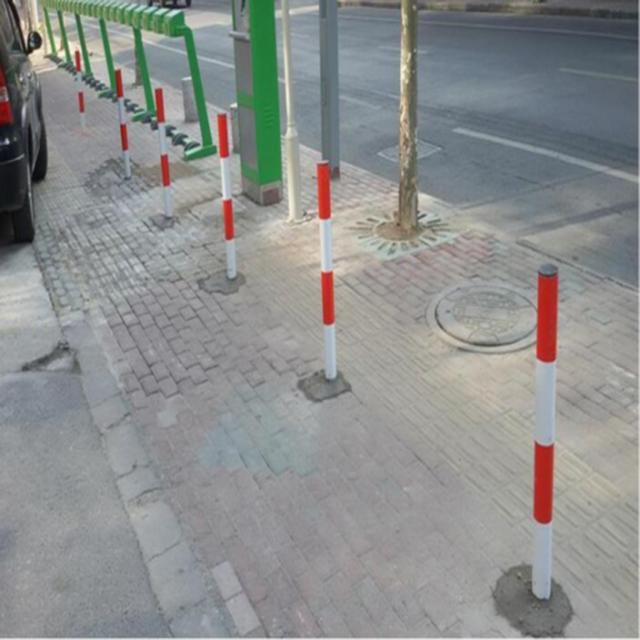car: (0, 0, 49, 243)
pole: (279, 0, 303, 217)
warning_column: (528, 263, 566, 596), (314, 157, 338, 377), (216, 109, 233, 278), (154, 84, 172, 216), (115, 67, 129, 178), (73, 47, 86, 136)
